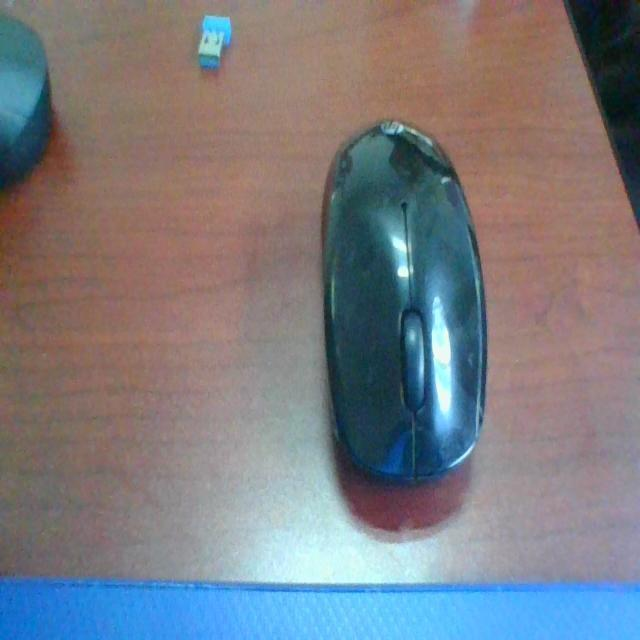Mouse: (336, 116, 497, 508)
